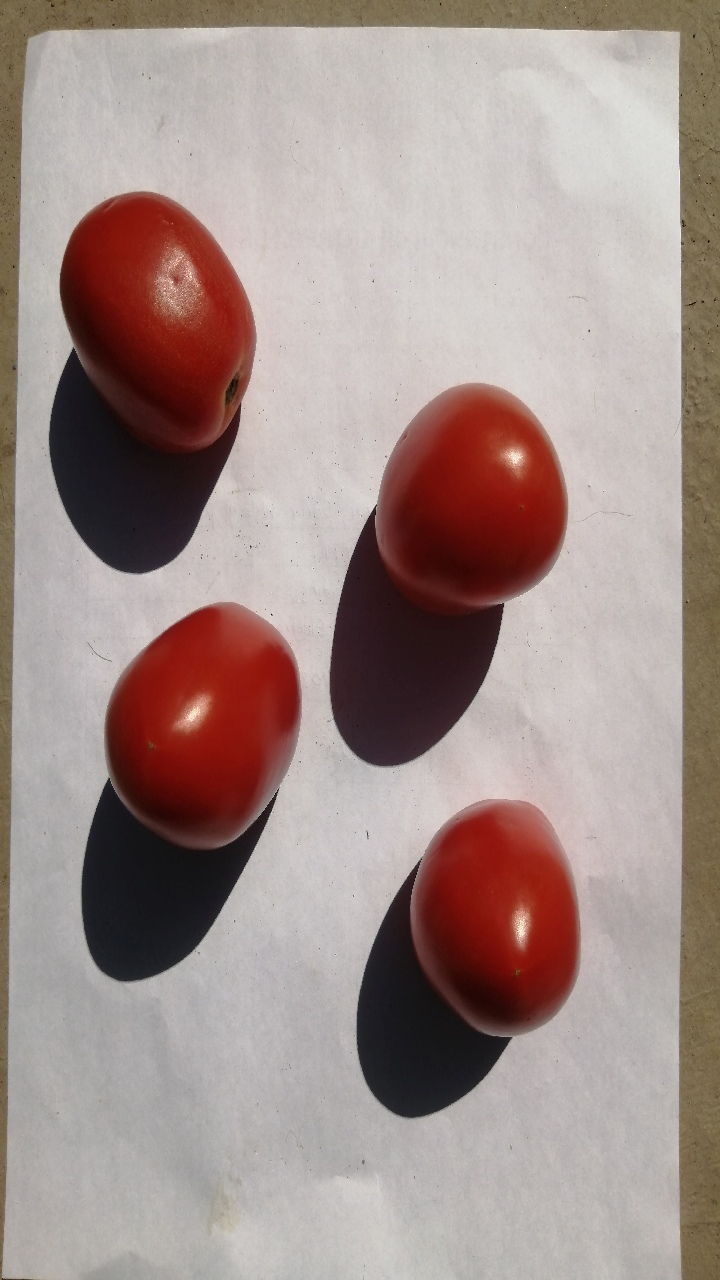tomateRojo: (37, 174, 283, 488), (83, 560, 326, 872), (388, 754, 598, 1060), (364, 360, 581, 612)
